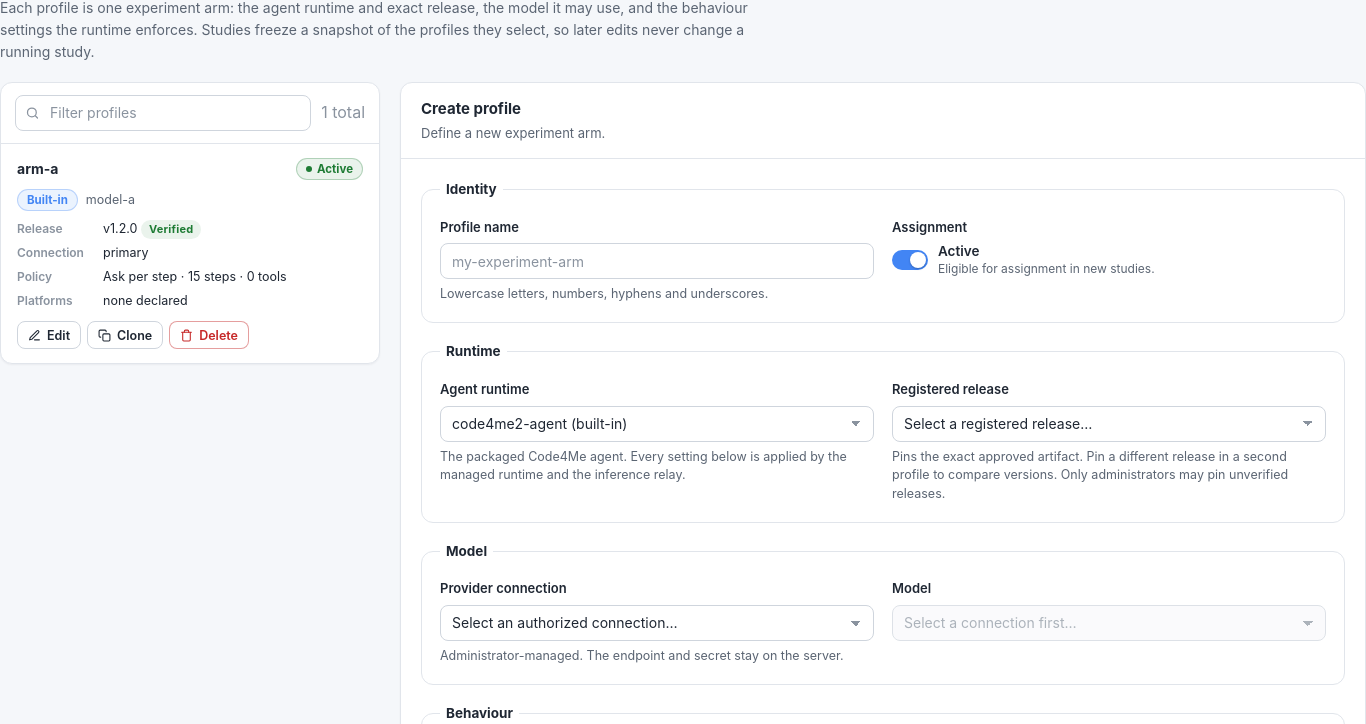
a custom {code,field,message} 422 renders its message without crashing
Check: the text "arm-a" is shown, box [17,158,58,181]
Type "new-arm" into the field labelled "Profile name" at [657, 261], box [440,243,874,279]
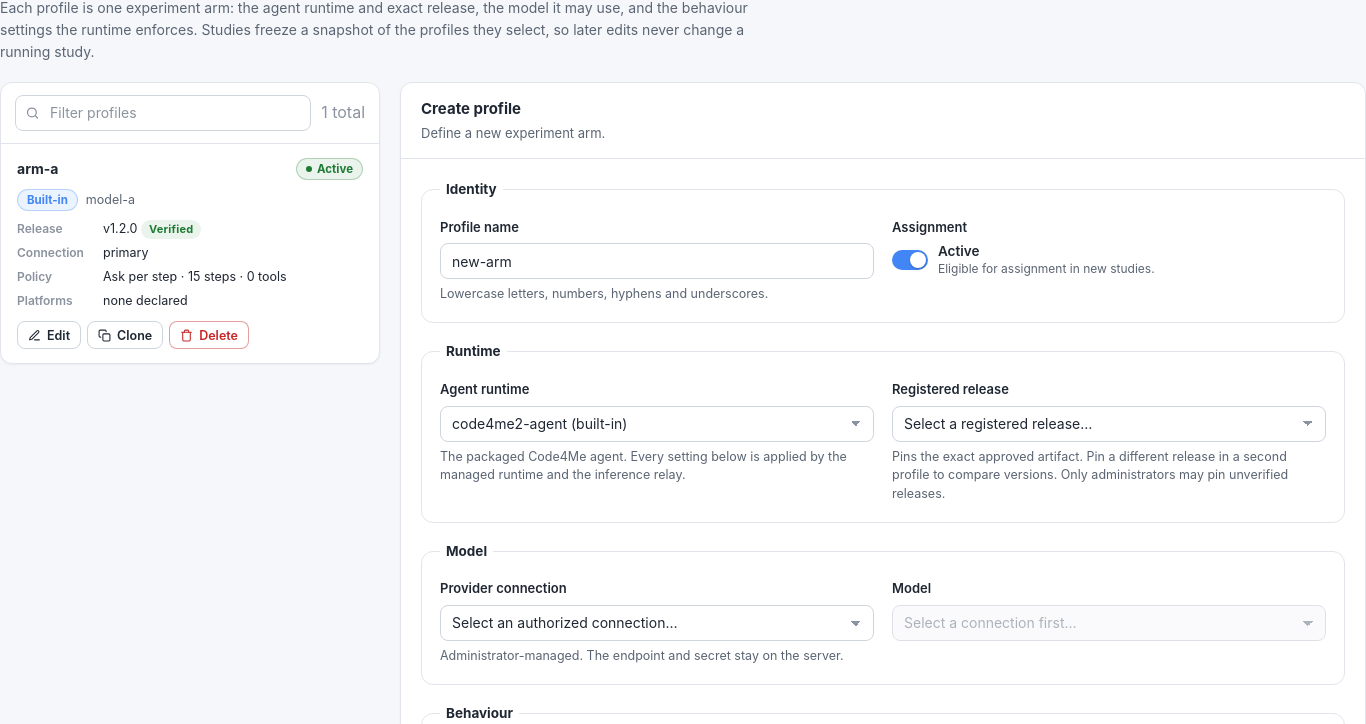
Select "primary" in the dropdown labelled "Provider connection" at [657, 623], box [440,605,874,641]
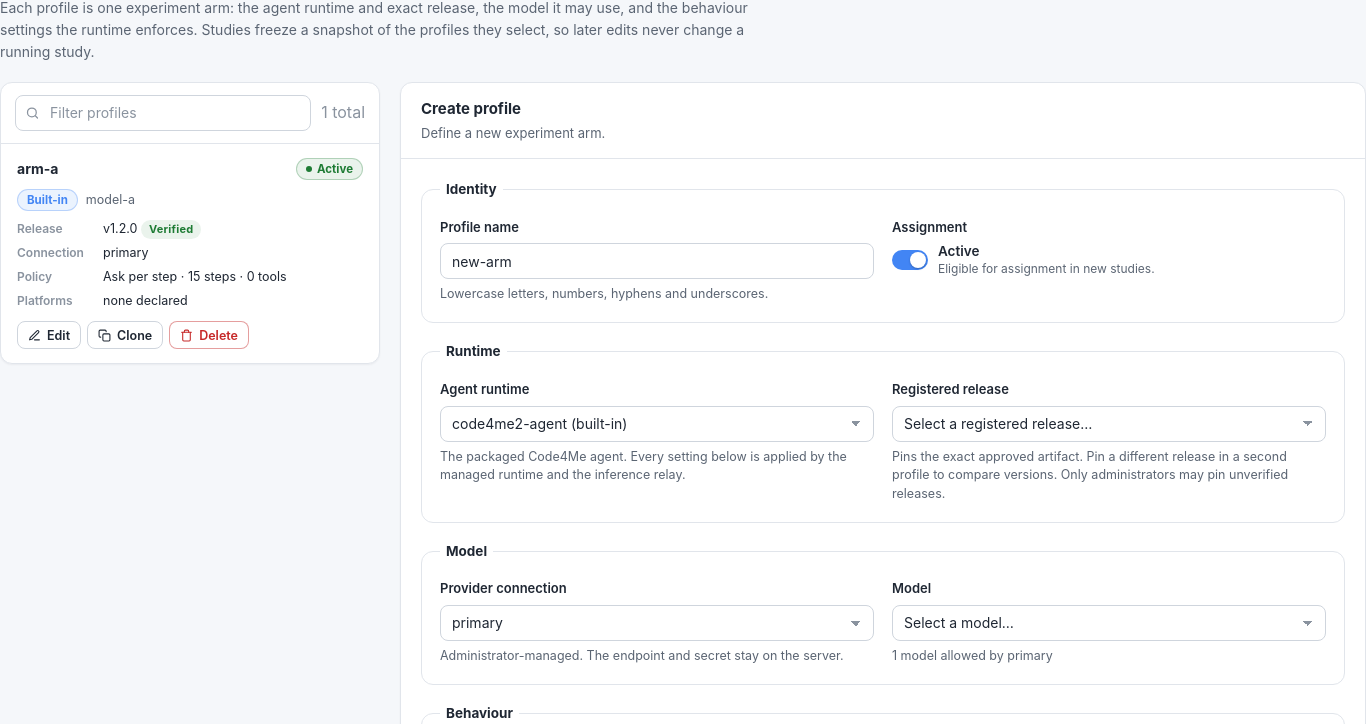
Select "model-a" in the dropdown labelled "Model" at [1109, 623], box [892,605,1326,641]
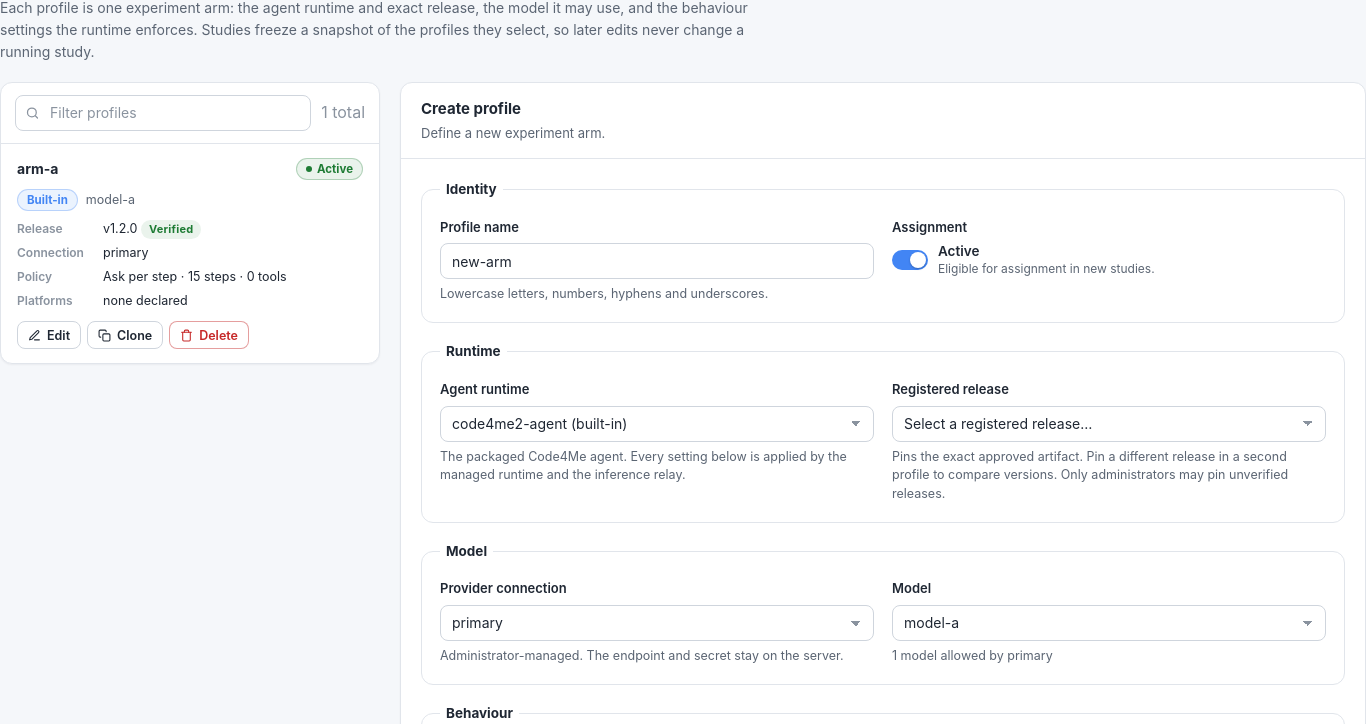
Select "rel-1 · v1.2.0 · QUALIFIED · PACKAGED · linux/x64" in the dropdown labelled "Registered release" at [1109, 424], box [892,406,1326,442]
(page scrolled)
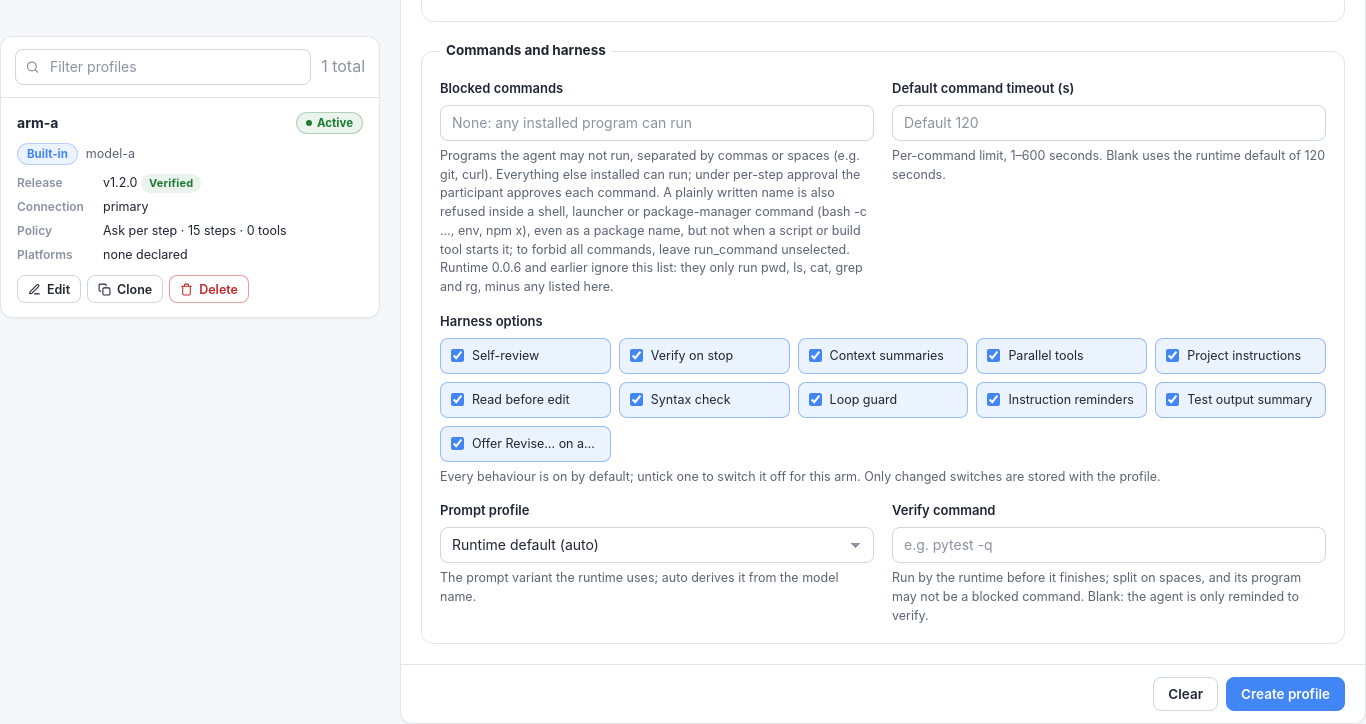
Click the button "Create profile" at [1286, 694], box [1226,677,1345,711]
(page scrolled)
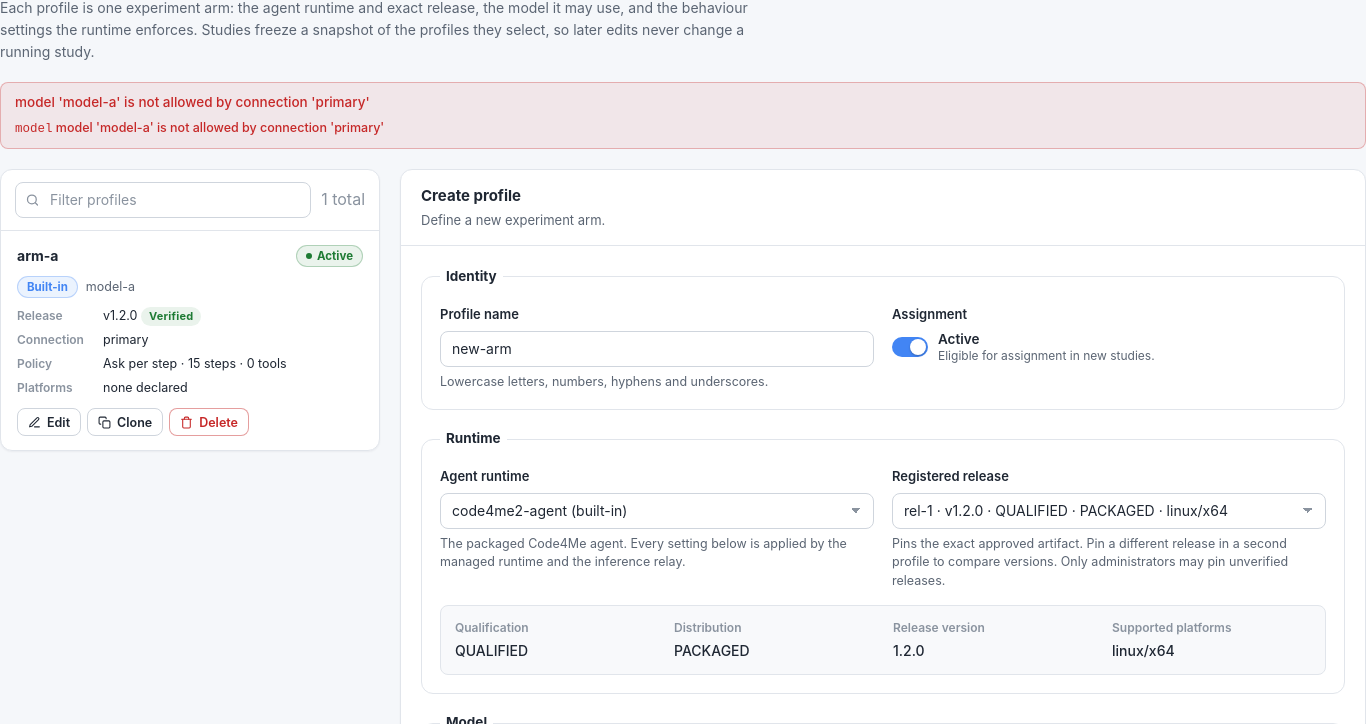
Check: the text "model 'model-a' is not allowed by connection 'primary'" is shown, box [15,94,370,110]
